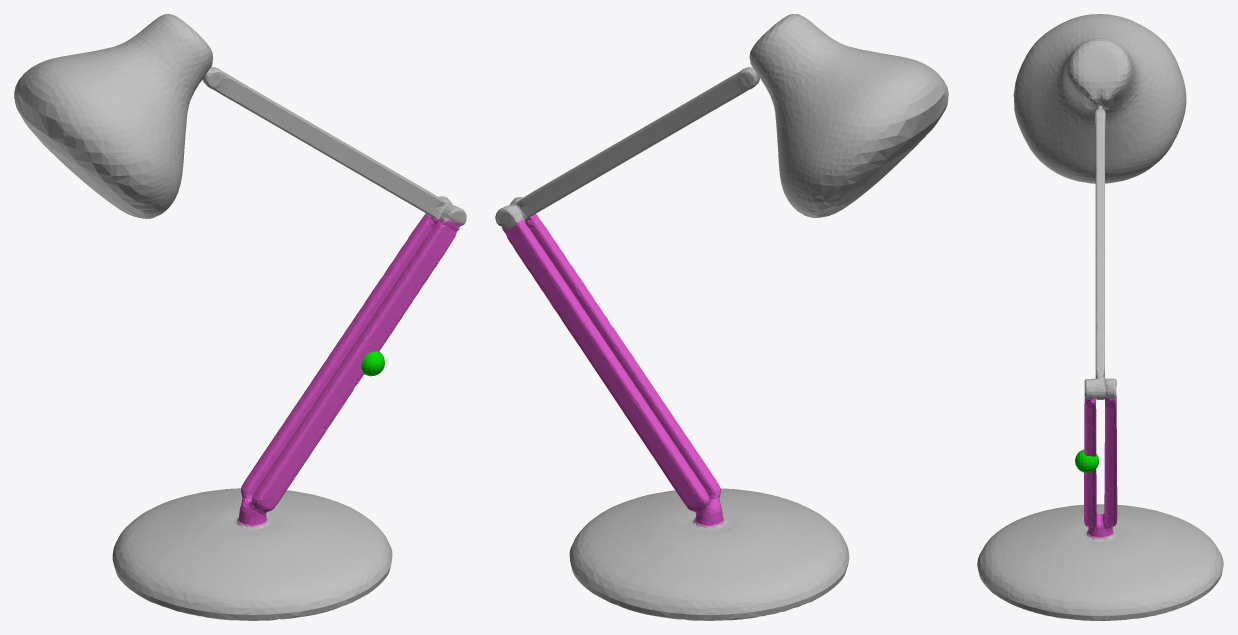
File: lamp_bsb.glb
The picture shows the model from 3 angles, left to right: view 1: azimuth 30°, elevation 25°; view 2: azimuth 150°, elevation 25°; view 3: azimuth 270°, elevation 25°; orthographic projection. The views are drawn at different scales.
Size of the model in its own units: 1.25 by 1.59 by 0.7116.
